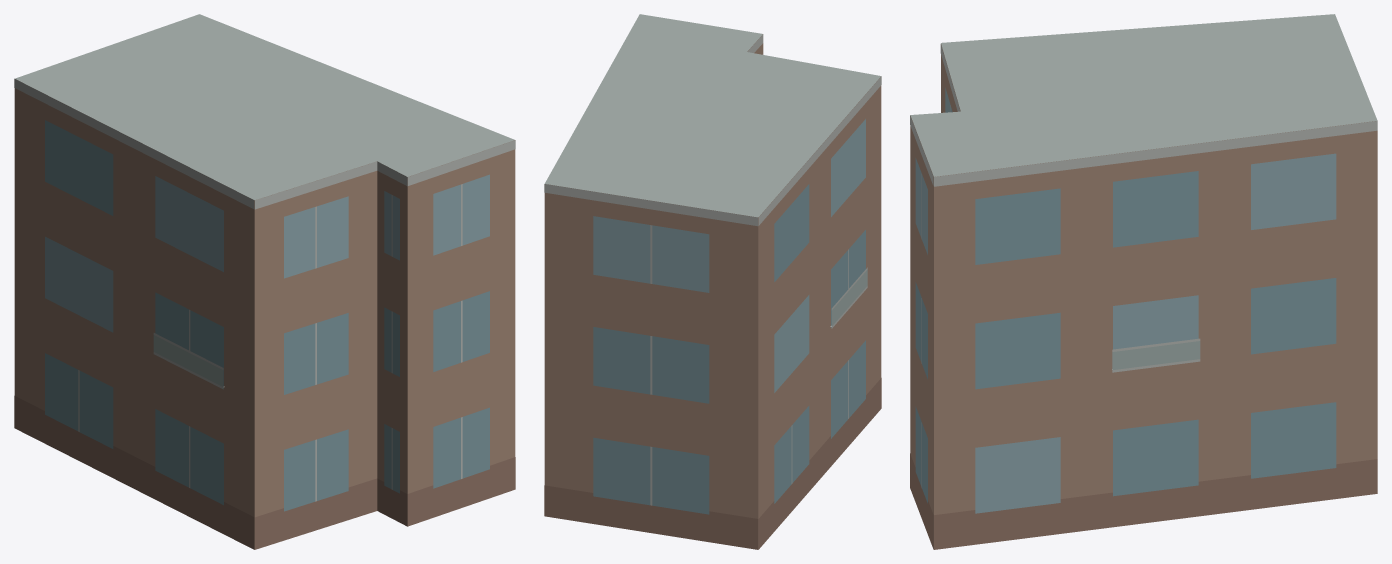
Rendered from survey-upis-32785917.glb.
3 renders of one model, left to right at view 1: azimuth 30°, elevation 25°; view 2: azimuth 150°, elevation 25°; view 3: azimuth 270°, elevation 25°, orthographic. The views are drawn at different scales.
Visible parts, largest first — view 1: survey-upis-32785917.tmp; view 2: survey-upis-32785917.tmp; view 3: survey-upis-32785917.tmp.
Part boxes in pixels (<box>): survey-upis-32785917.tmp: <box>14,14,515,549</box>; survey-upis-32785917.tmp: <box>544,14,881,549</box>; survey-upis-32785917.tmp: <box>910,14,1377,549</box>.
Bounding box in the file's own units: 8.58 × 9.15 × 10.4.
